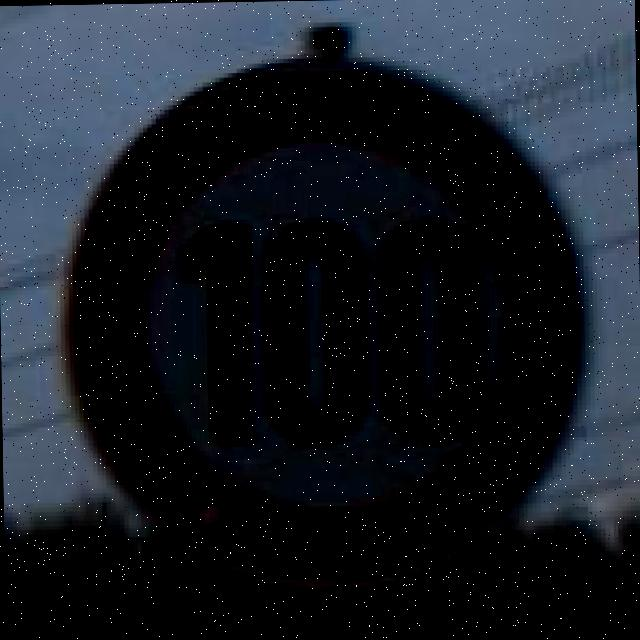Ograniczenie predkosci do 100: (51, 49, 593, 592)
